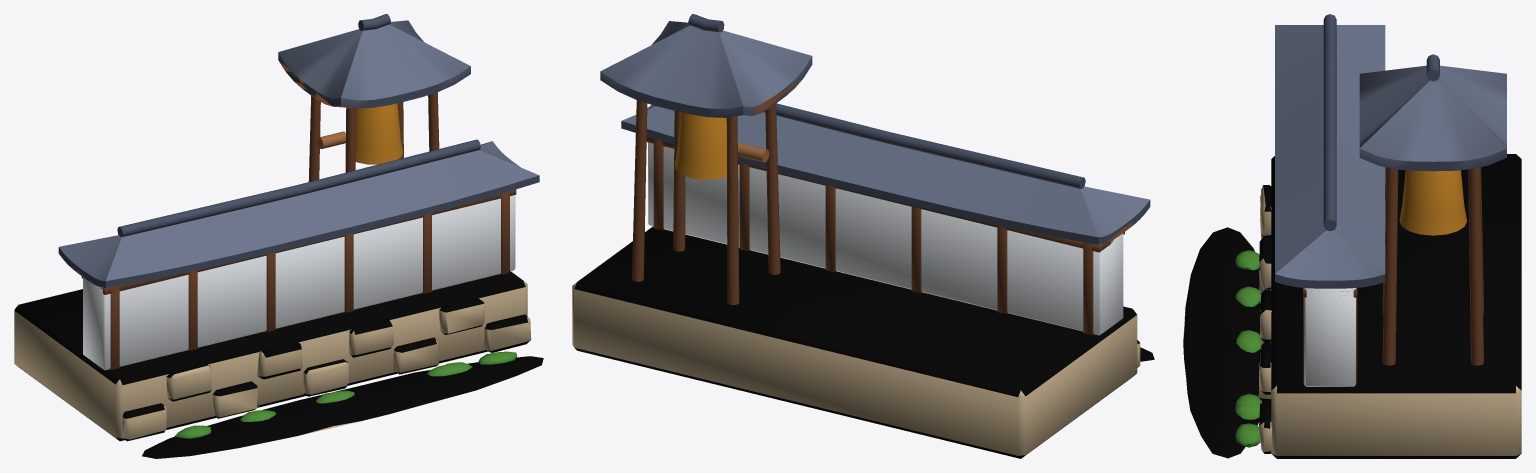
The model's file is ShrineWallC.fbx.
3 views of the same model, side by side, from view 1: azimuth 30°, elevation 25°; view 2: azimuth 150°, elevation 25°; view 3: azimuth 270°, elevation 25° (orthographic). The views are drawn at different scales.
Parts seen in each view (by area): view 1: ShrineWallC; view 2: ShrineWallC; view 3: ShrineWallC.
Part boxes in pixels (x1,y1,x2,y2): ShrineWallC: [14, 14, 543, 458]; ShrineWallC: [572, 14, 1154, 458]; ShrineWallC: [1183, 14, 1521, 458].
Size of the model in its own units: 8 by 5.3 by 4.59.
1 material, 1 textured.
